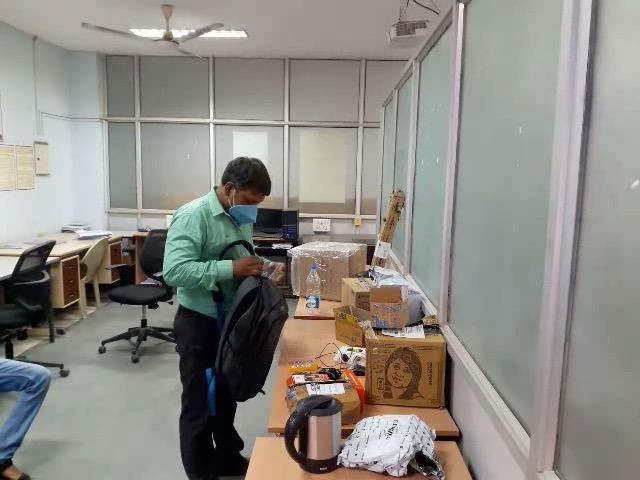shoplifting: (154, 228, 345, 402)
